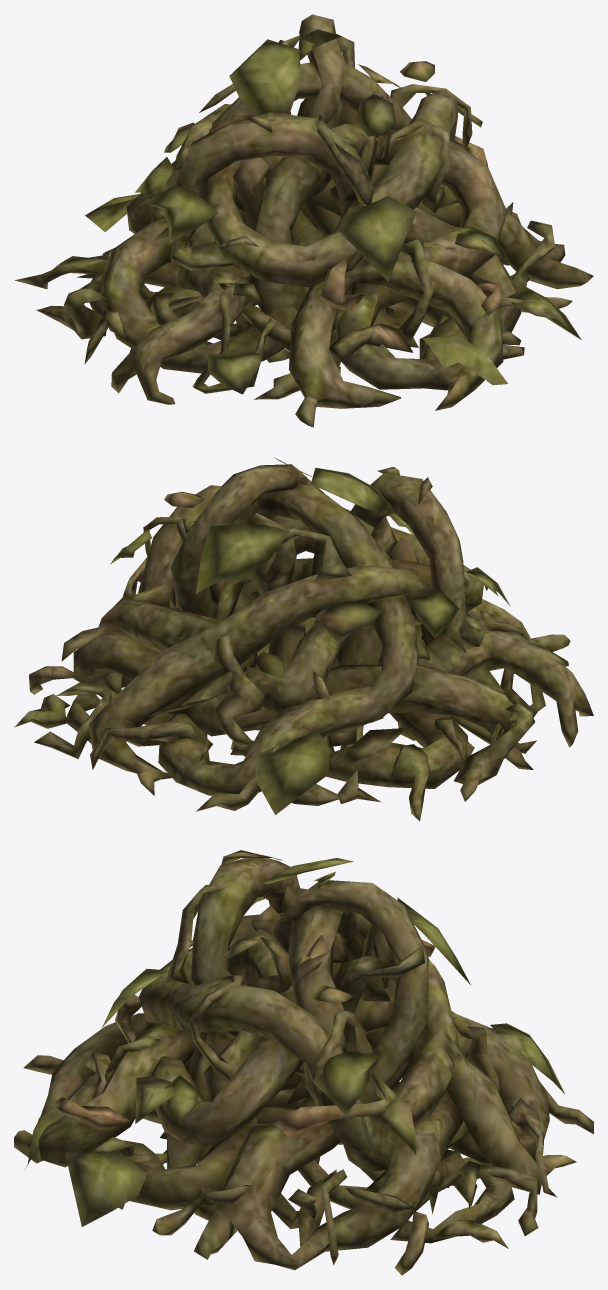
Rendered from chaos-vine.glb.
The picture shows the model from 3 angles, top to bottom: view 1: azimuth 30°, elevation 25°; view 2: azimuth 150°, elevation 25°; view 3: azimuth 270°, elevation 25°; orthographic projection. The views are drawn at different scales.
Size of the model in its own units: 1 by 0.5488 by 1.
1 material, 1 textured.
